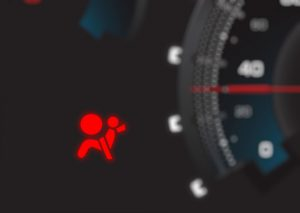Airbag_warning: (76, 109, 128, 166)
